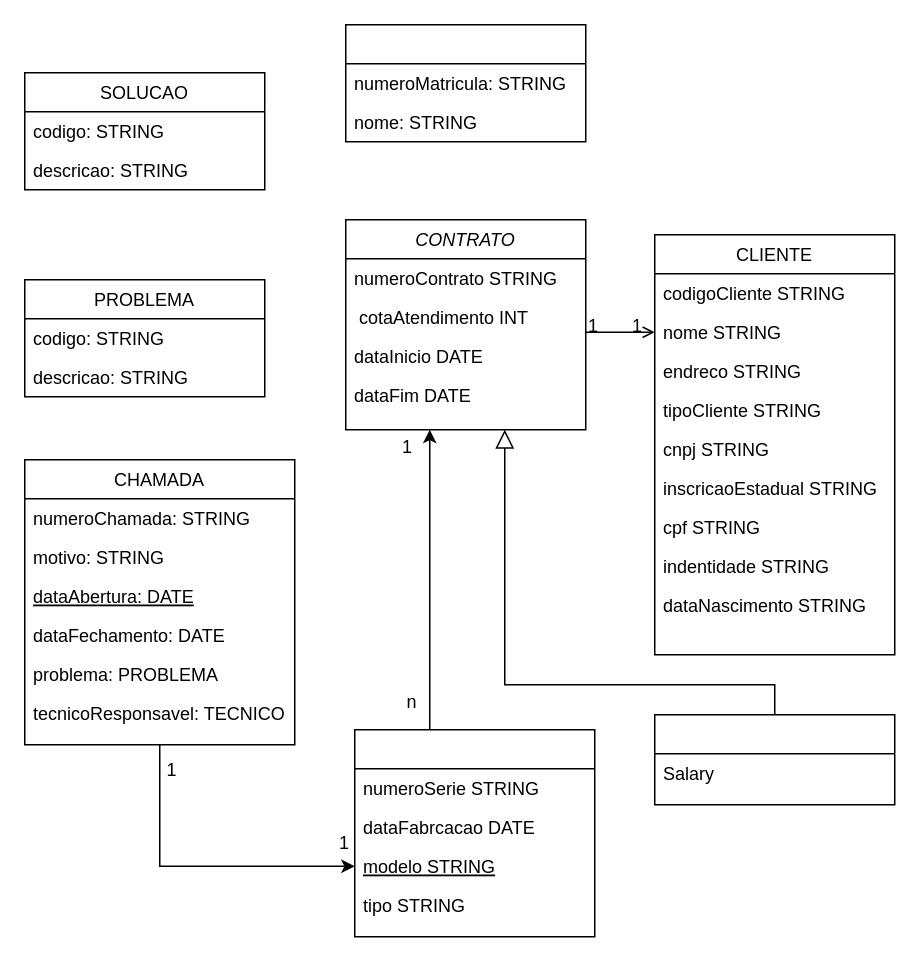
This 920x962 diagram has some shape labels left out. The box of each missing label's shape, as (x1, y1, x2, y2) in pixels:
EQUIPAMENTO: (353, 728, 595, 937)
Professor: (653, 713, 895, 805)
TECNICO: (344, 23, 586, 142)
